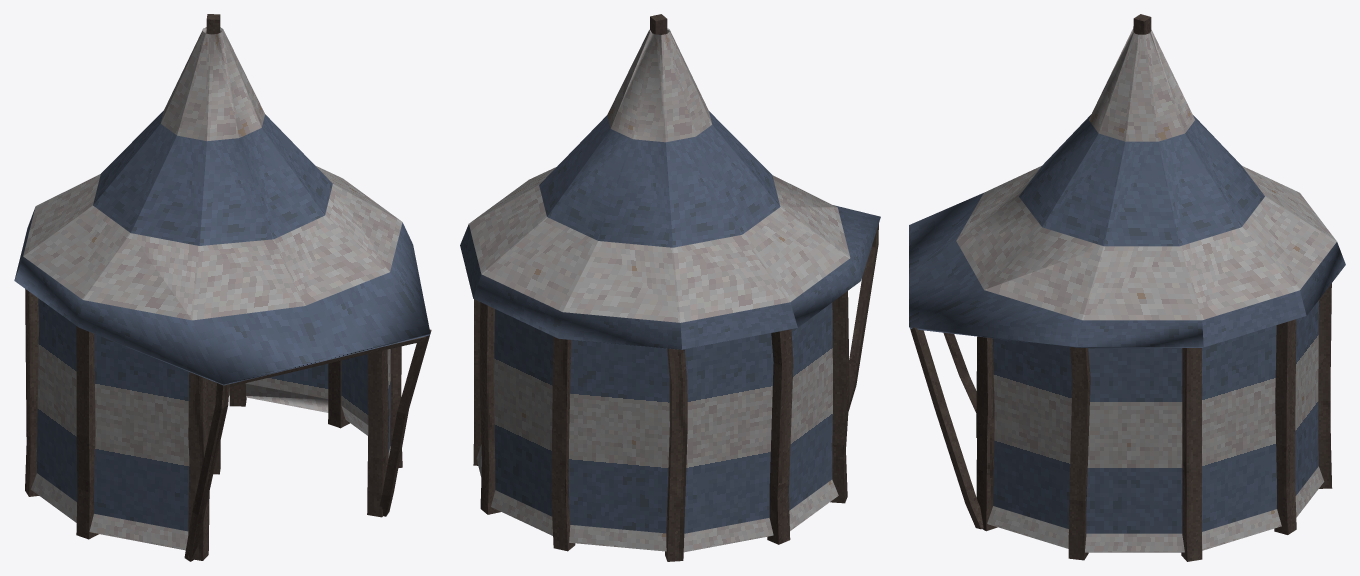
The model's file is market_stall_round_blue.glb.
The picture shows the model from 3 angles, left to right: view 1: azimuth 30°, elevation 25°; view 2: azimuth 150°, elevation 25°; view 3: azimuth 270°, elevation 25°; orthographic projection.
Parts seen in each view (by area): view 1: market_stall_round_blue; view 2: market_stall_round_blue; view 3: market_stall_round_blue.
Part boxes in pixels (x1,y1,x2,y2): market_stall_round_blue: (14,14,431,561); market_stall_round_blue: (460,14,880,561); market_stall_round_blue: (909,14,1345,561).
Bounding box in the file's own units: 4.67 × 6.17 × 5.21.
2 materials, 2 textured.
